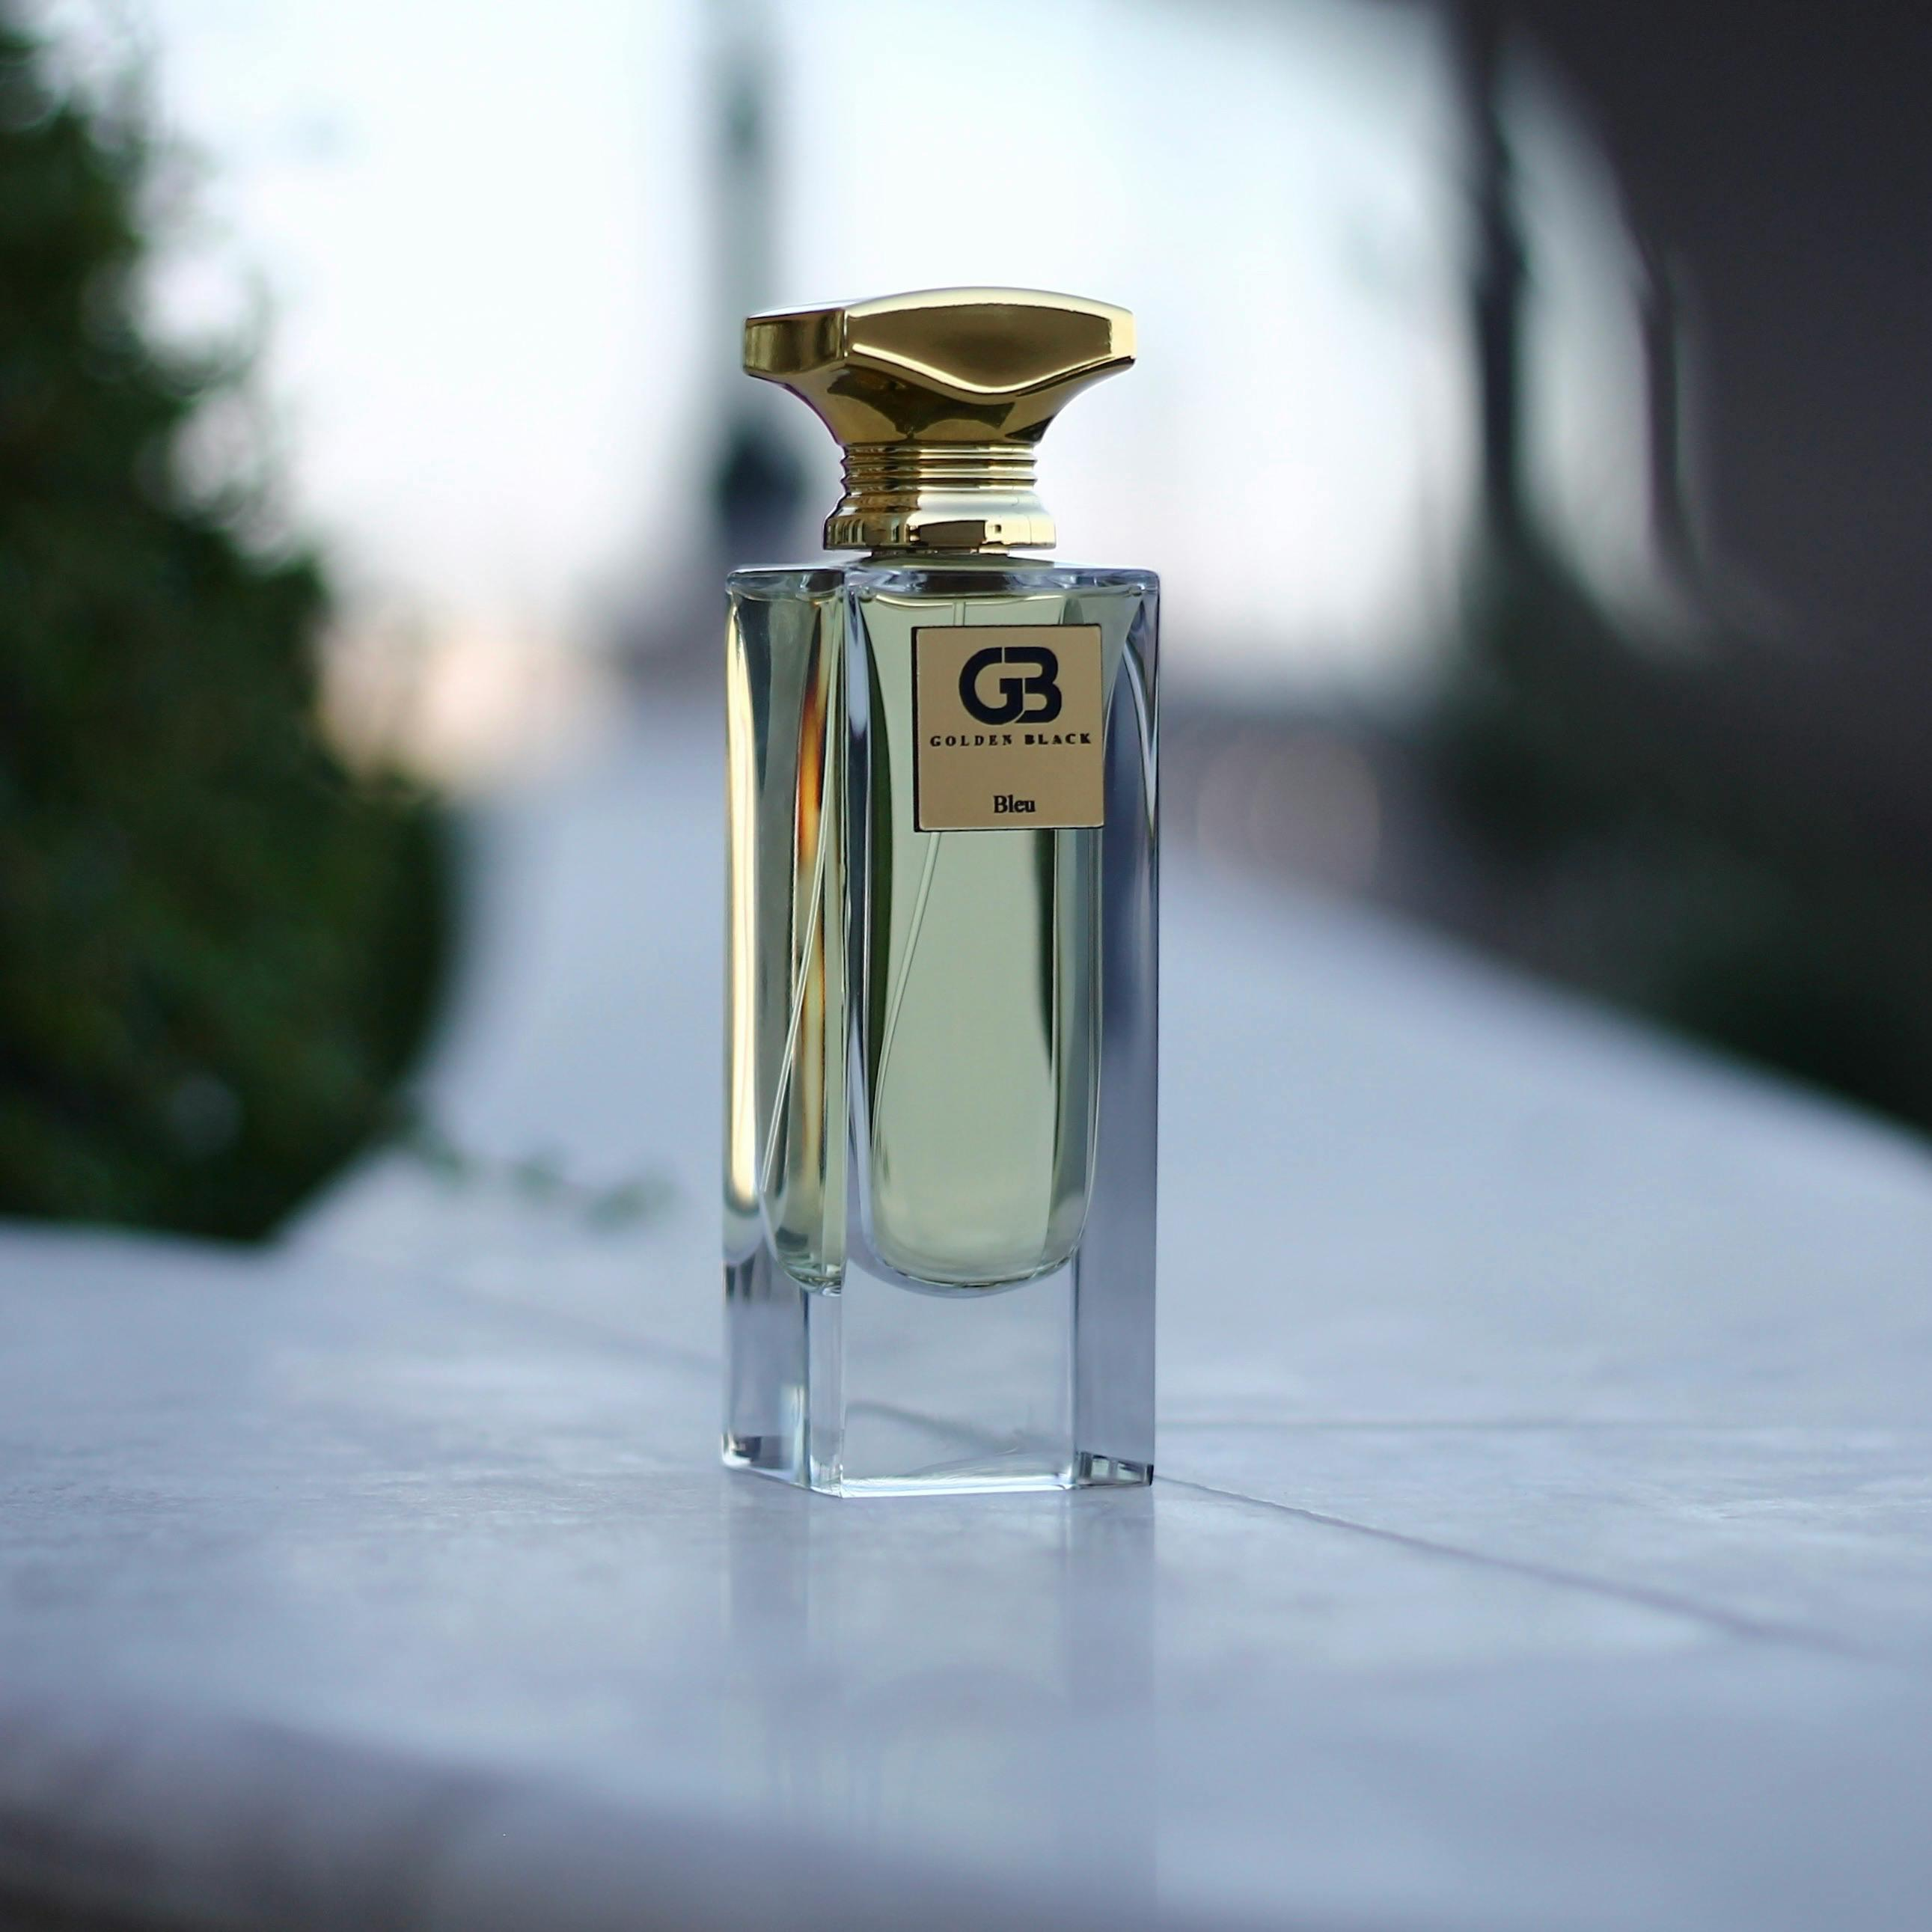glass: (718, 303, 1164, 1493)
